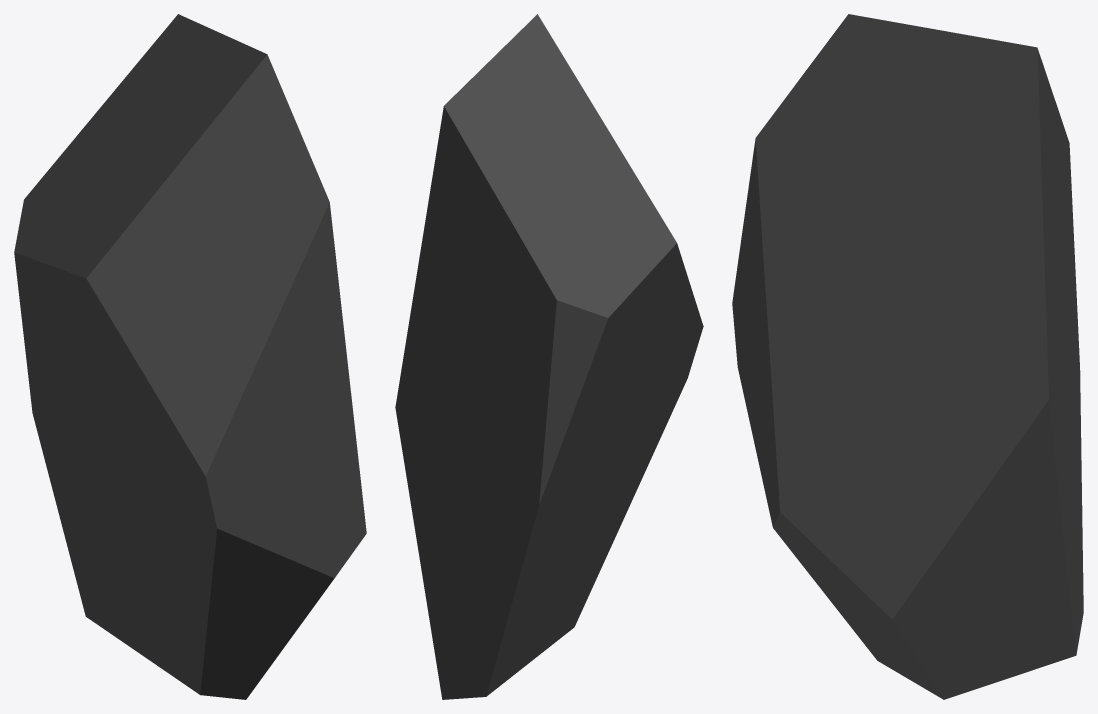
The model's file is Rock_05.glb.
3 renders of one model, left to right at view 1: azimuth 30°, elevation 25°; view 2: azimuth 150°, elevation 25°; view 3: azimuth 270°, elevation 25°, orthographic. The views are drawn at different scales.
Parts seen in each view (by area): view 1: Rock_05; view 2: Rock_05; view 3: Rock_05.
Part boxes in pixels (bbox=[...]): Rock_05: bbox=[14, 14, 366, 699]; Rock_05: bbox=[395, 14, 703, 699]; Rock_05: bbox=[732, 14, 1083, 699].
Size of what is drawn, in the model's own units: 1.37 by 3.57 by 1.71.
Materials: 1 (1 with a texture image).
